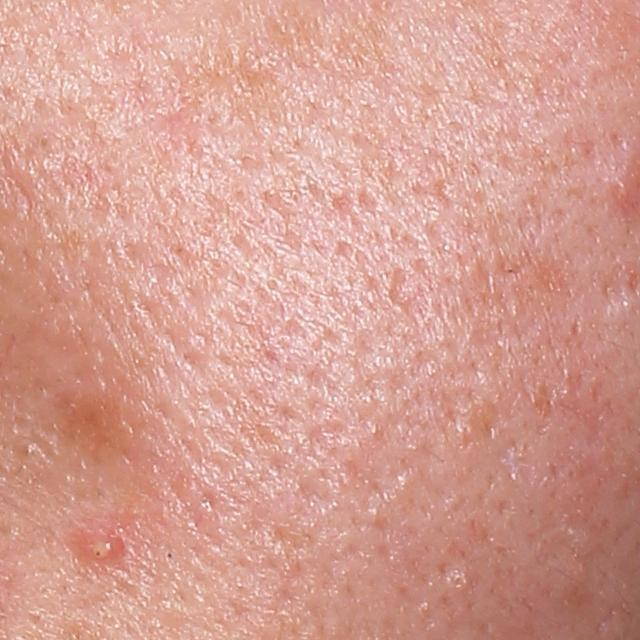atrophic_scar: (386, 264, 438, 325), (492, 436, 538, 498)
pustule: (72, 528, 126, 568)
